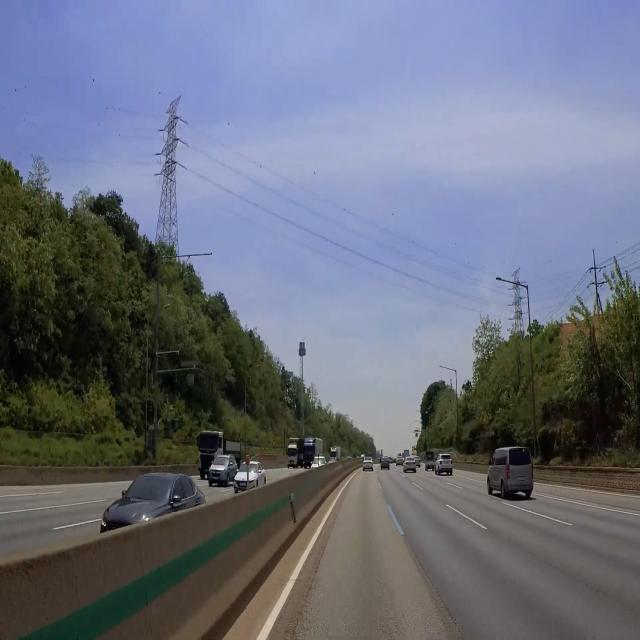car: (238, 481, 249, 490), (515, 475, 527, 483), (212, 474, 220, 485), (443, 460, 451, 468), (288, 460, 296, 468), (203, 467, 208, 476), (408, 463, 414, 469), (366, 465, 370, 469)
